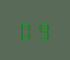nine: (35, 20, 50, 40)
zero: (19, 20, 34, 40)
